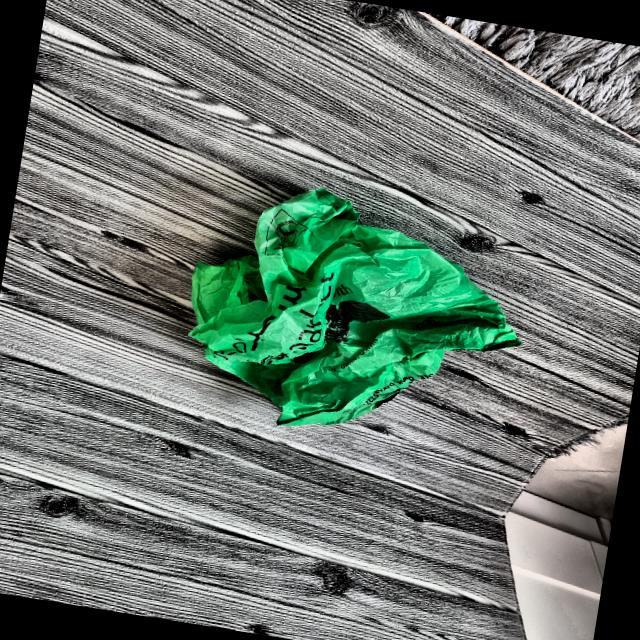plastic bag: (177, 176, 524, 456)
